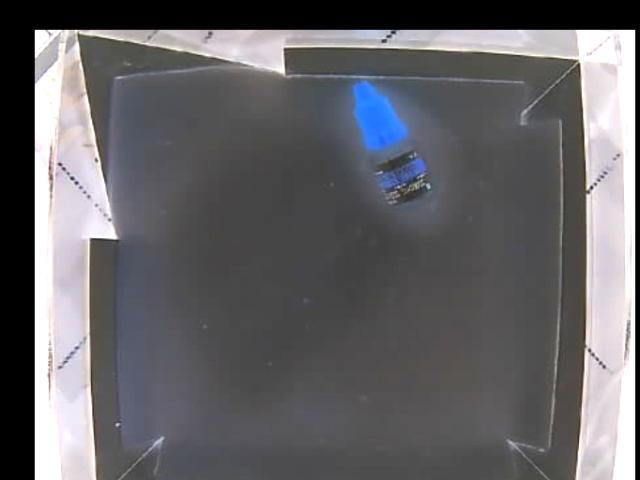Bottle: (351, 80, 431, 212)
